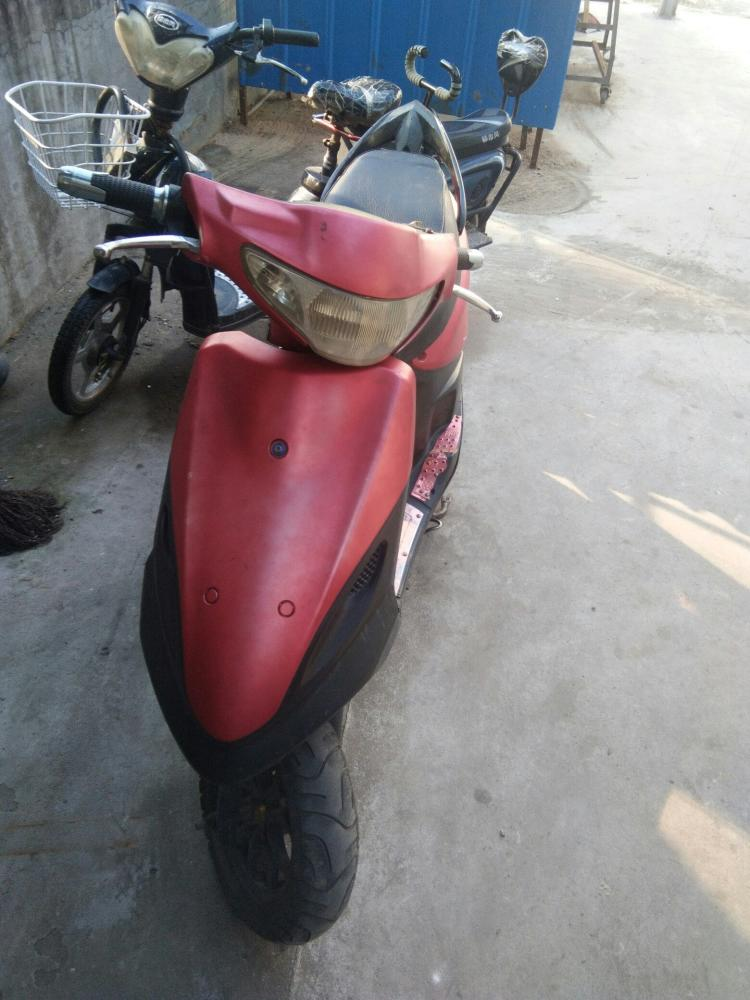电动车: (66, 76, 528, 950), (17, 4, 571, 419)
